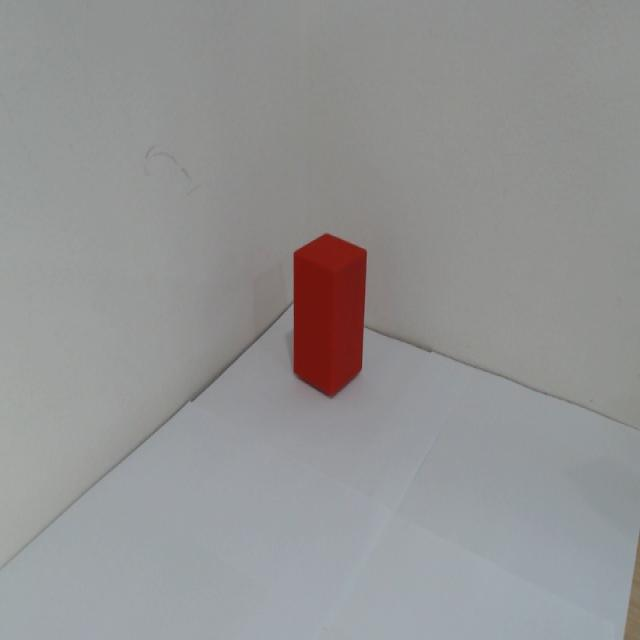cube: (287, 231, 371, 401)
